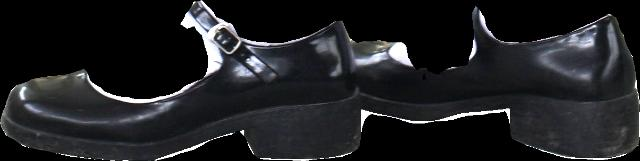blackshoes: (0, 1, 639, 160)
